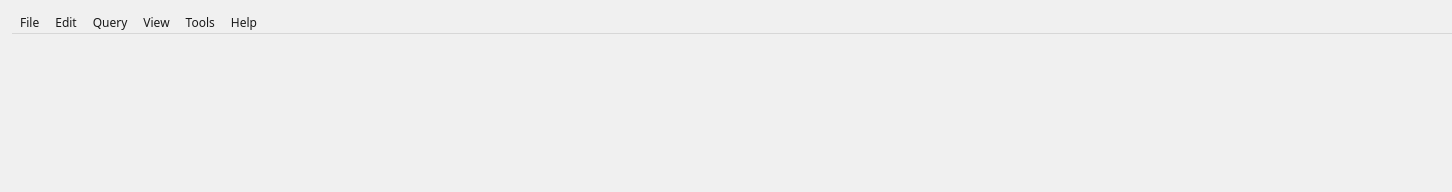
Scenario: AppMenuBar › opens a menu on click with inert items and a tooltip
Click the menu item with class "menubar__button" showing "File".
click(30, 22)  # box top-left (12, 12), bottom-right (47, 33)
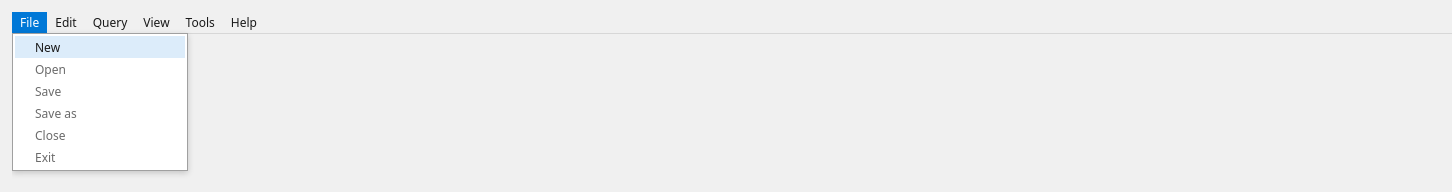
Check: the number of menu items with class "menubar__item" is 6, box top-left (15, 36), bottom-right (185, 58); top-left (15, 58), bottom-right (185, 80); top-left (15, 80), bottom-right (185, 102); top-left (15, 102), bottom-right (185, 124); top-left (15, 124), bottom-right (185, 146); top-left (15, 146), bottom-right (185, 168)
Check: the menu item with class "menubar__item" reads "New", box top-left (15, 36), bottom-right (185, 58)
Check: the menu item with class "menubar__button" is expanded, box top-left (12, 12), bottom-right (47, 33)
